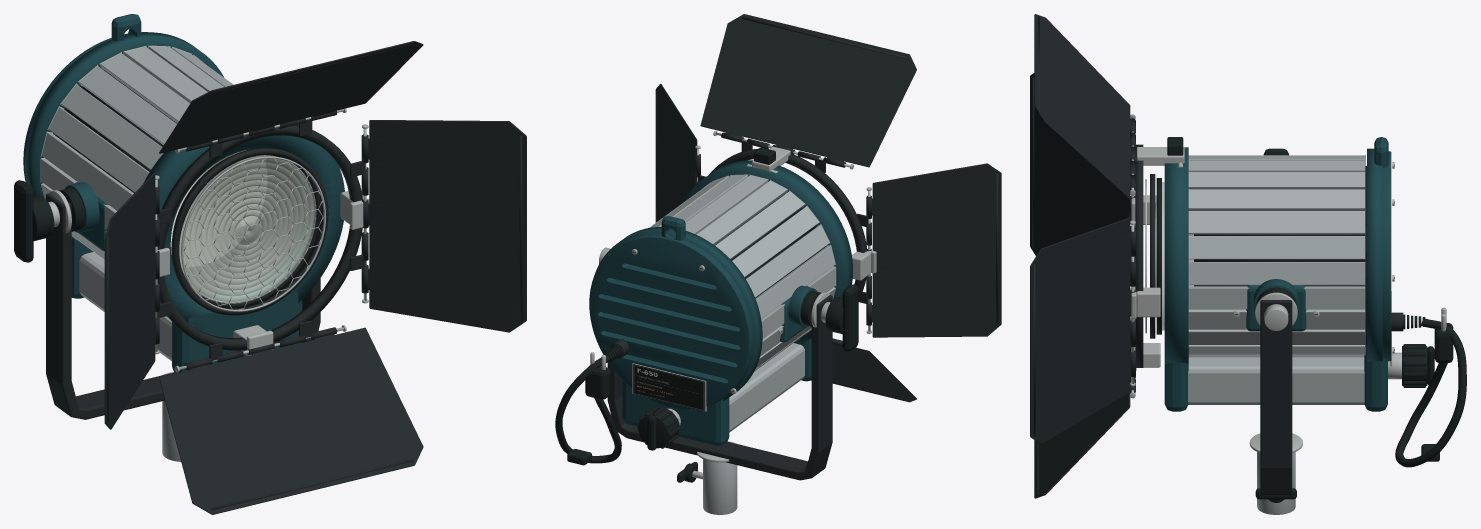
File: F06_Fresnel_Light.glb
The picture shows the model from 3 angles, left to right: view 1: azimuth 30°, elevation 25°; view 2: azimuth 150°, elevation 25°; view 3: azimuth 270°, elevation 25°; orthographic projection. The views are drawn at different scales.
Visible parts, largest first — view 1: Barn door • BOTTOM blackened steel leaf, Barn door • RIGHT blackened steel leaf, Lens • single stepped glass solid, Barn door • TOP blackened steel leaf, Barn door • LEFT blackened steel leaf, Front casting • optical annulus, Yoke • one-piece folded steel U, Internal • light-trap sleeve, Accessory • rotating 168 mm receiver rim, Rear casting • perimeter, Cast end • lower heel -0.075, Reflector • shallow spun bowl (+23 smaller); view 2: Barn door • TOP blackened steel leaf, Barn door • LEFT blackened steel leaf, Rear casting • ventilated service cover, Yoke • one-piece folded steel U, Barn door • RIGHT blackened steel leaf, Front casting • optical annulus, Lower housing • focus guide enclosure, Cast end • lower heel 0.075, Barn door • BOTTOM blackened steel leaf, Rear casting • perimeter, ID • original fixture label, Extruded shell • rib 09 (+16 smaller); view 3: Barn door • RIGHT blackened steel leaf, Barn door • TOP blackened steel leaf, Barn door • LEFT blackened steel leaf, Lower housing • focus guide enclosure, Yoke • one-piece folded steel U, Front casting • optical annulus, Extruded shell • rib 03, Extruded shell • rib 02, Extruded shell • rib 01, Extruded shell • rib 04, Barn door • BOTTOM blackened steel leaf, Rear casting • perimeter (+27 smaller).
Part boxes in pixels (x1,y1,x2,y2): Barn door • BOTTOM blackened steel leaf: [159, 327, 423, 514]; Barn door • RIGHT blackened steel leaf: [369, 120, 526, 332]; Lens • single stepped glass solid: [179, 155, 316, 303]; Barn door • TOP blackened steel leaf: [159, 41, 423, 153]; Barn door • LEFT blackened steel leaf: [104, 172, 155, 429]; Front casting • optical annulus: [143, 124, 344, 330]; Yoke • one-piece folded steel U: [46, 193, 320, 419]; Internal • light-trap sleeve: [55, 71, 302, 294]; Accessory • rotating 168 mm receiver rim: [157, 125, 362, 350]; Rear casting • perimeter: [25, 32, 223, 245]; Cast end • lower heel -0.075: [172, 285, 302, 373]; Reflector • shallow spun bowl: [170, 150, 266, 266]; Barn door • TOP blackened steel leaf: [700, 14, 916, 167]; Barn door • LEFT blackened steel leaf: [872, 163, 1001, 337]; Rear casting • ventilated service cover: [589, 234, 753, 409]; Yoke • one-piece folded steel U: [607, 295, 832, 480]; Barn door • RIGHT blackened steel leaf: [655, 84, 697, 222]; Front casting • optical annulus: [683, 160, 852, 343]; Lower housing • focus guide enclosure: [729, 343, 804, 432]; Cast end • lower heel 0.075: [622, 380, 729, 445]; Barn door • BOTTOM blackened steel leaf: [832, 347, 916, 402]; Rear casting • perimeter: [595, 227, 762, 400]; ID • original fixture label: [633, 364, 704, 411]; Extruded shell • rib 09: [732, 205, 819, 277]; Barn door • RIGHT blackened steel leaf: [1030, 217, 1130, 444]; Barn door • TOP blackened steel leaf: [1034, 14, 1130, 198]; Barn door • LEFT blackened steel leaf: [1030, 73, 1128, 255]; Lower housing • focus guide enclosure: [1188, 357, 1364, 404]; Yoke • one-piece folded steel U: [1260, 297, 1292, 495]; Front casting • optical annulus: [1164, 147, 1188, 364]; Extruded shell • rib 03: [1188, 210, 1365, 234]; Extruded shell • rib 02: [1188, 235, 1365, 259]; Extruded shell • rib 01: [1188, 261, 1365, 285]; Extruded shell • rib 04: [1188, 188, 1365, 210]; Barn door • BOTTOM blackened steel leaf: [1034, 392, 1130, 498]; Rear casting • perimeter: [1367, 148, 1382, 361].
Size of the model in its own units: 0.3392 by 0.3712 by 0.3283.
10 materials, 1 textured.
